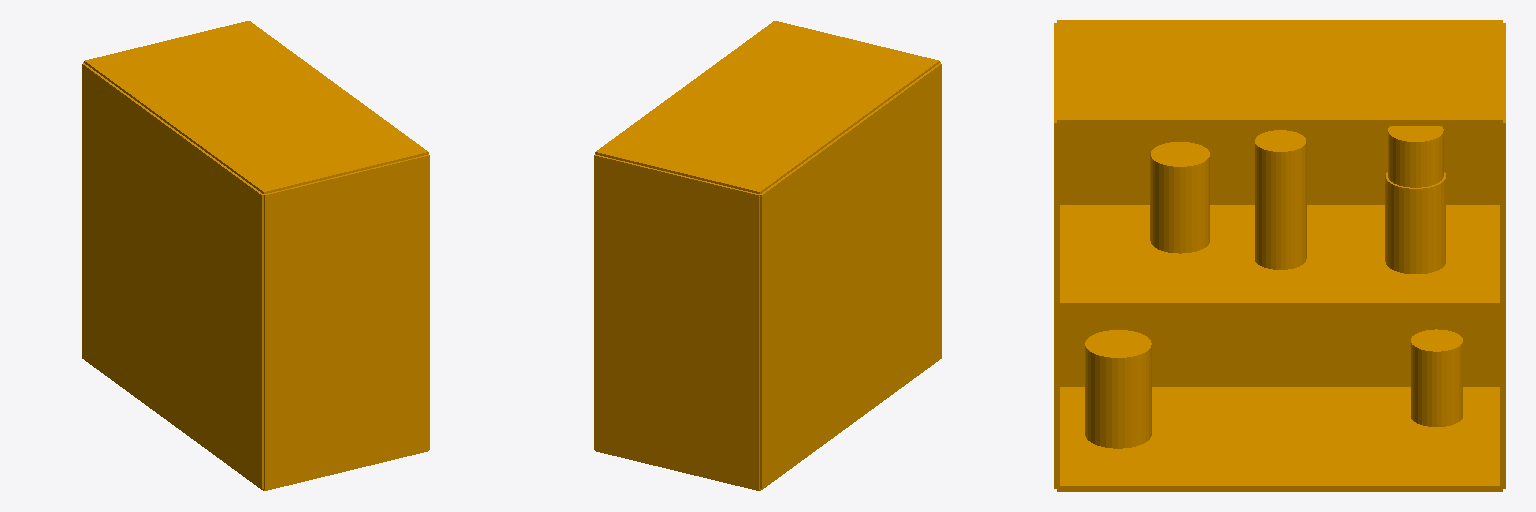
robot.urdf — syn_can_cabinet_1666:
<?xml version="1.0" ?>
<robot name="syn_can_cabinet_1666">
    <link concave="yes" name="base_link">
        <inertial>
            <origin rpy="0 0 0" xyz="0 0 0"/>
            <mass value="0.0"/>
            <inertia ixx="1e-08" ixy="0" ixz="0" iyy="1e-08" iyz="0" izz="1e-08"/>
        </inertial>
        <visual>
            <origin xyz="0 0 0" rpy="0 0 0" />
            <geometry>
                <mesh filename="syn_can_cabinet_1666.obj" scale="1.000000 1.000000 1.000000"/>
            </geometry>         
        </visual>

        <collision concave="yes">
            <origin xyz="0 0 0" rpy="0 0 0"/>
            <geometry>
                <mesh filename="syn_can_cabinet_1666.obj" scale="1.000000 1.000000 1.000000"/>
            </geometry>
        </collision>
    </link>
</robot>
    

--- Render facts (derived) ---
The picture shows the robot from 3 angles, left to right: view 1: azimuth 30°, elevation 25°; view 2: azimuth 150°, elevation 25°; view 3: azimuth 270°, elevation 25°; orthographic projection.
Robot: syn_can_cabinet_1666 — 1 links, 0 joints (none); root link base_link; default pose: every joint at zero.
Visible links, largest first — view 1: base_link; view 2: base_link; view 3: base_link.
Link boxes in pixels (bbox=[...]): base_link: bbox=[82, 21, 429, 490]; base_link: bbox=[594, 21, 941, 490]; base_link: bbox=[1054, 20, 1505, 491].
Size in the robot's own frame: 0.2227 by 0.4199 by 0.3811 metres.
1 mesh visuals loaded from 1 distinct referenced files (1 OBJ).
